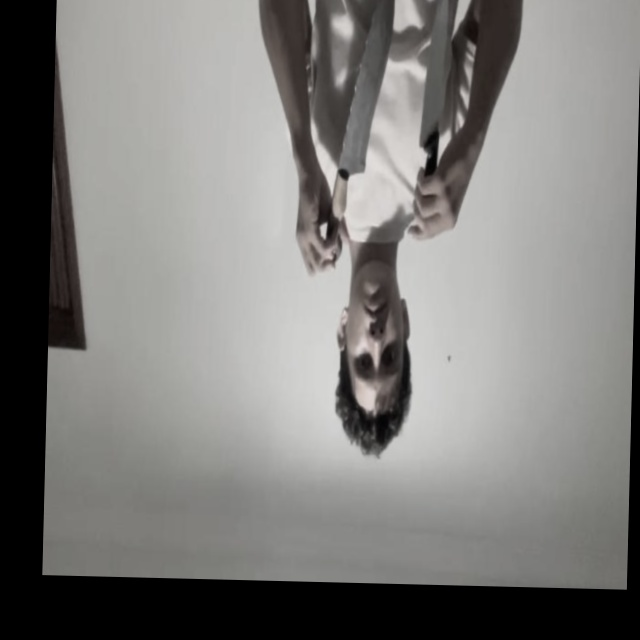Sharp-Object: (338, 0, 396, 180), (419, 0, 449, 145)
